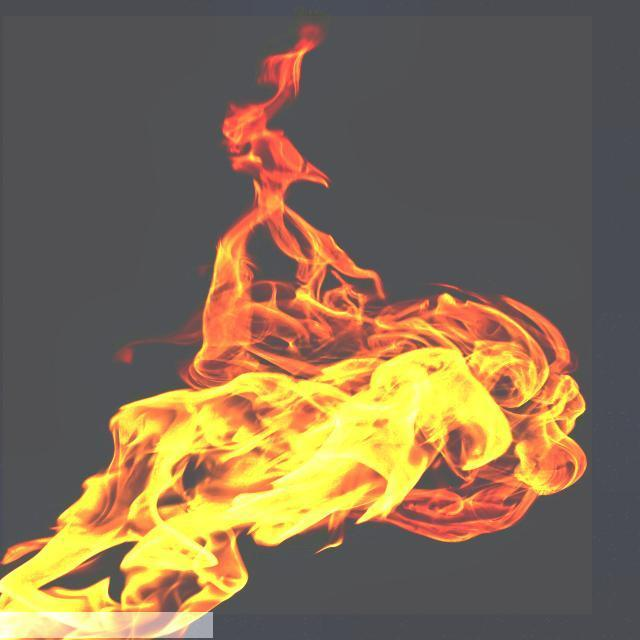Fire: (0, 26, 584, 614)
